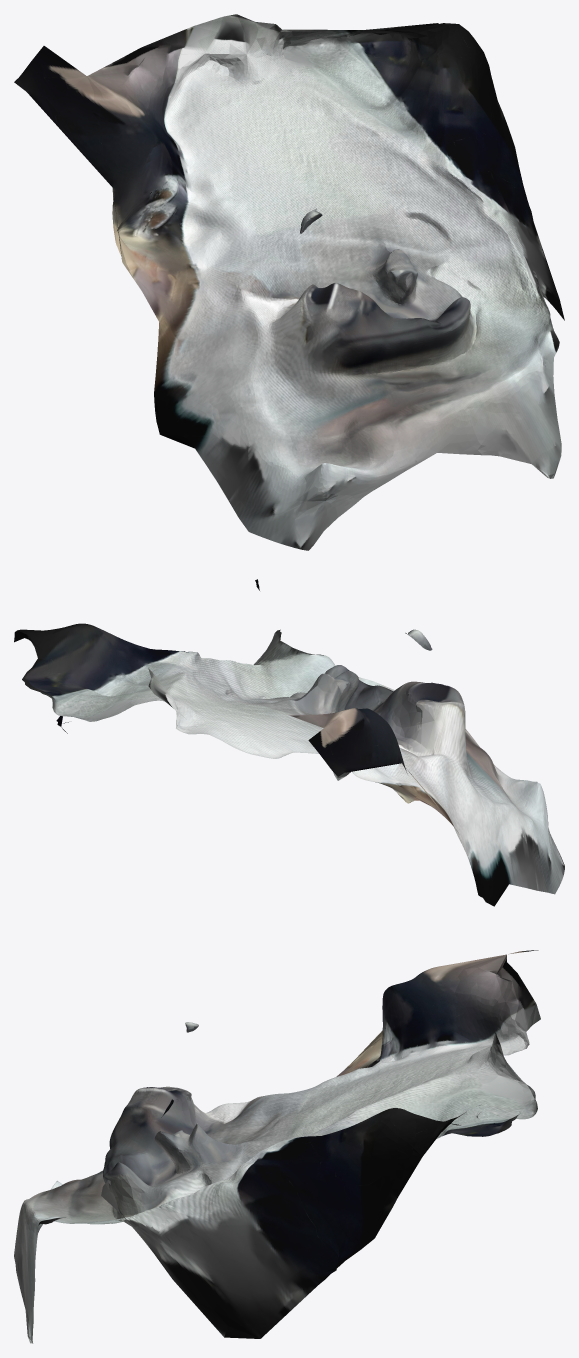
The model's file is dish.glb.
The picture shows the model from 3 angles, top to bottom: view 1: azimuth 30°, elevation 25°; view 2: azimuth 150°, elevation 25°; view 3: azimuth 270°, elevation 25°; orthographic projection.
Bounding box in the file's own units: 0.1555 × 0.114 × 0.1822.
Materials: 1 (1 with a texture image).
